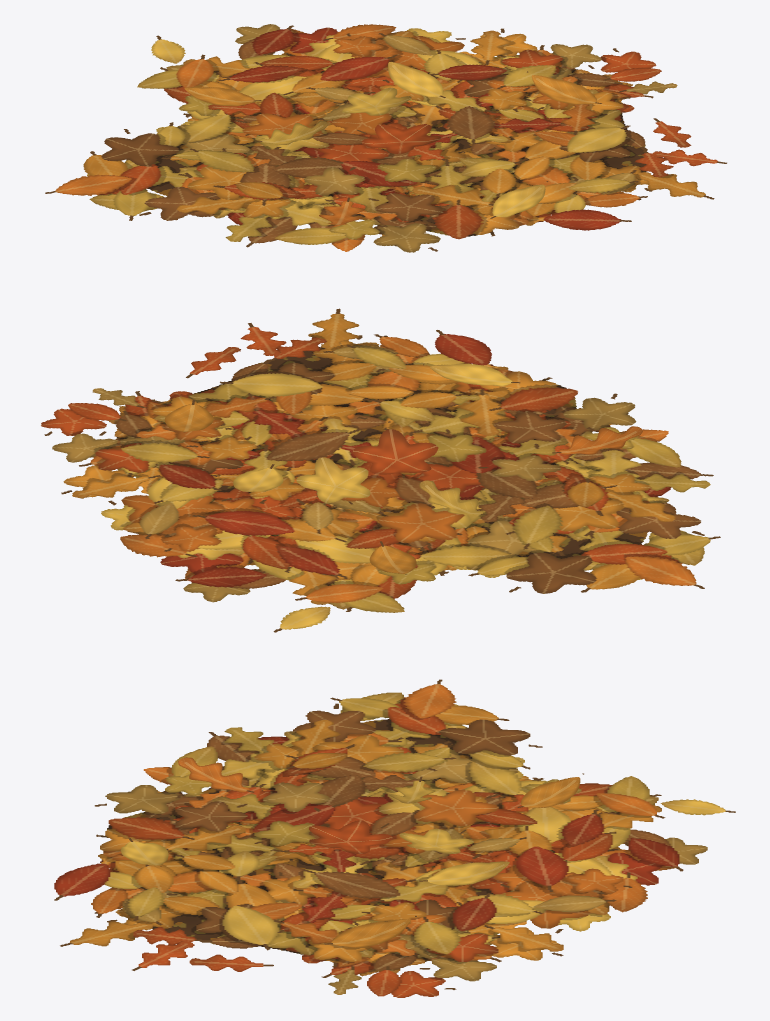
The model's file is fm_leaf_litter_patch_small.glb.
3 views of the same model, one above another, from view 1: azimuth 30°, elevation 25°; view 2: azimuth 150°, elevation 25°; view 3: azimuth 270°, elevation 25° (orthographic). The views are drawn at different scales.
Visible parts, largest first — view 1: fm_leaf_litter_patch_small; view 2: fm_leaf_litter_patch_small; view 3: fm_leaf_litter_patch_small.
Part boxes in pixels (<box>): fm_leaf_litter_patch_small: <box>45,24,726,252</box>; fm_leaf_litter_patch_small: <box>41,308,720,632</box>; fm_leaf_litter_patch_small: <box>54,679,735,997</box>.
Size of the model in its own units: 0.7608 by 0.0278 by 0.7068.
Materials: 2 (2 with a texture image).
